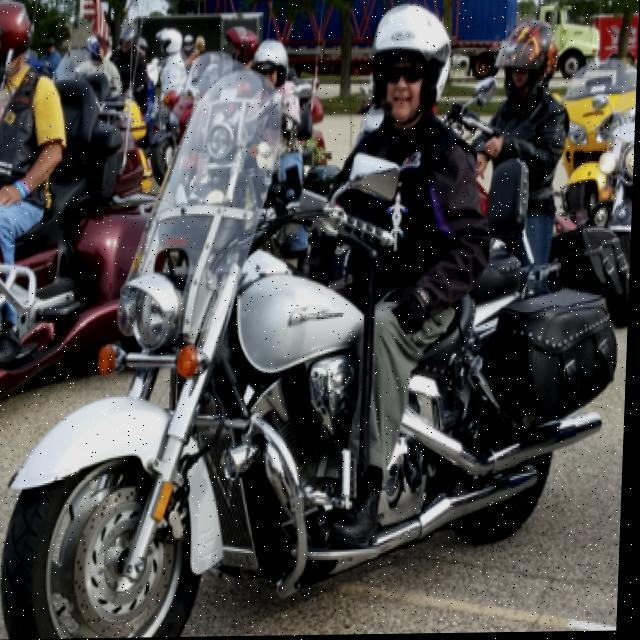With Helmet: (360, 0, 458, 132), (492, 16, 562, 114), (251, 36, 312, 101), (0, 0, 39, 99), (207, 26, 266, 74), (152, 23, 188, 68), (84, 28, 110, 70)
